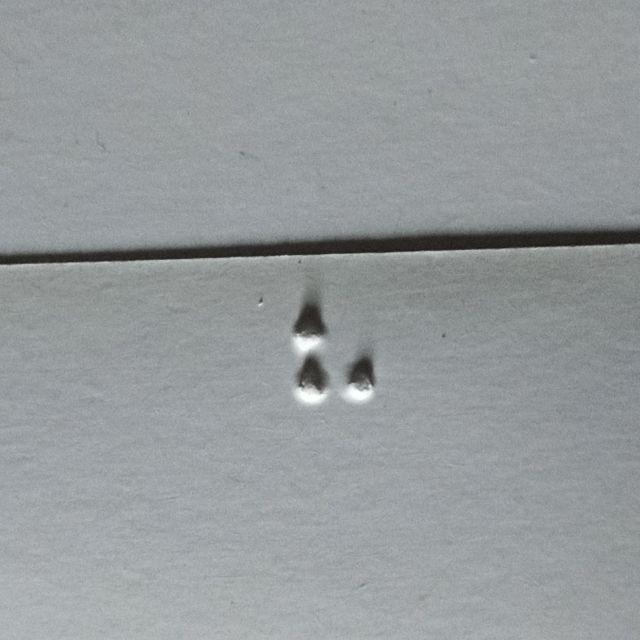hindi: (292, 309, 376, 461)
